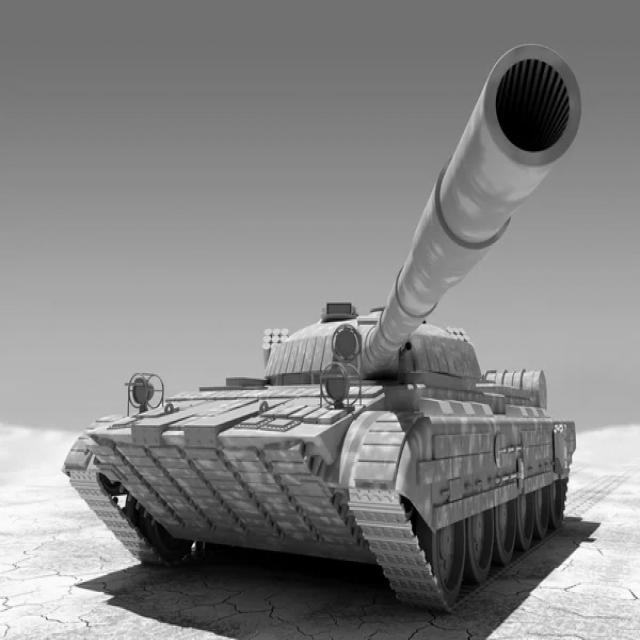Tank: (67, 34, 606, 607)
